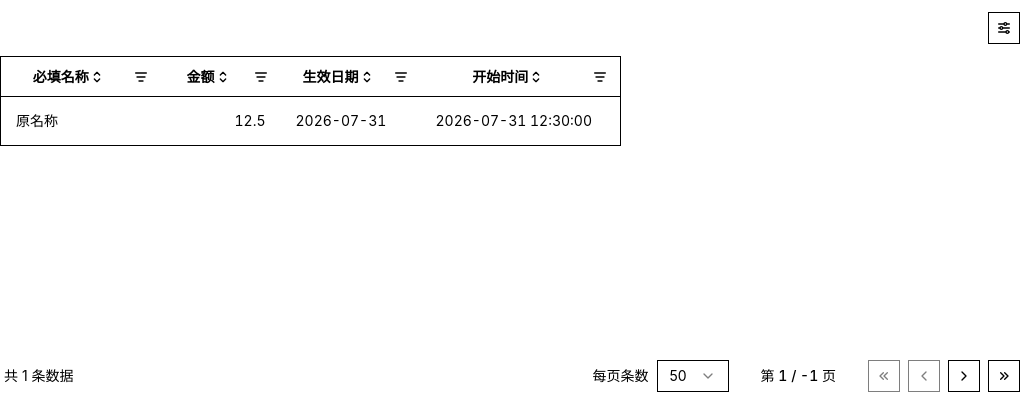
Test: DataTable cell selection › validates the first printable numeric draft with its codec
This screenshot has width=1024, height=409.
Step 1. Click the cell "12.5" → (250,120), box [160,97,280,145]
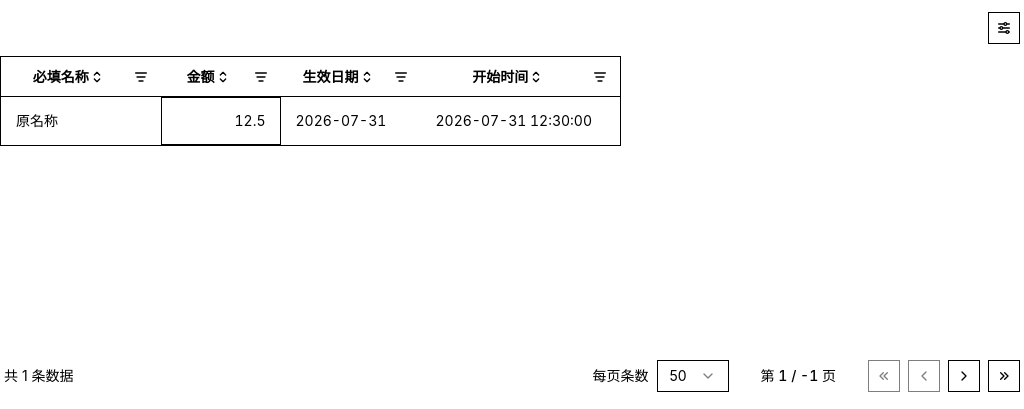
Step 2. Press 1 in the cell "12.5", box [160,97,280,145]
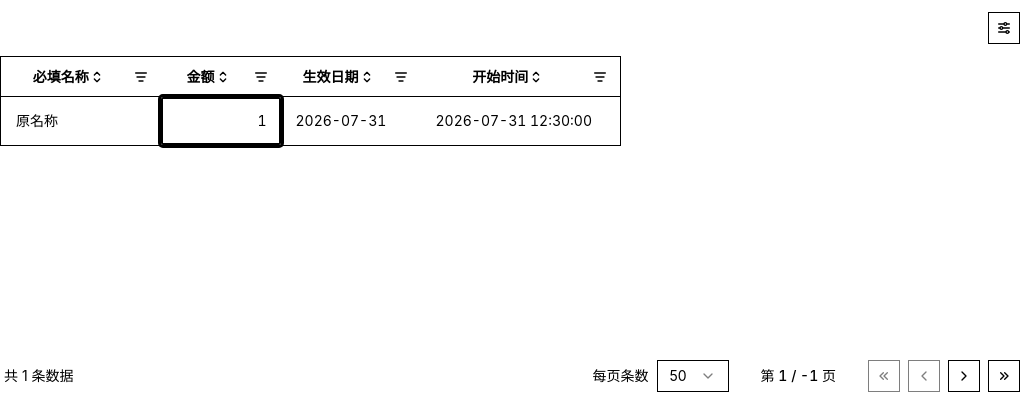
Result: the field named "编辑金额" holds "1" at [162,99,278,142]
